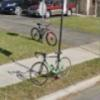bicycles: (30, 50, 72, 86), (29, 22, 57, 46)
